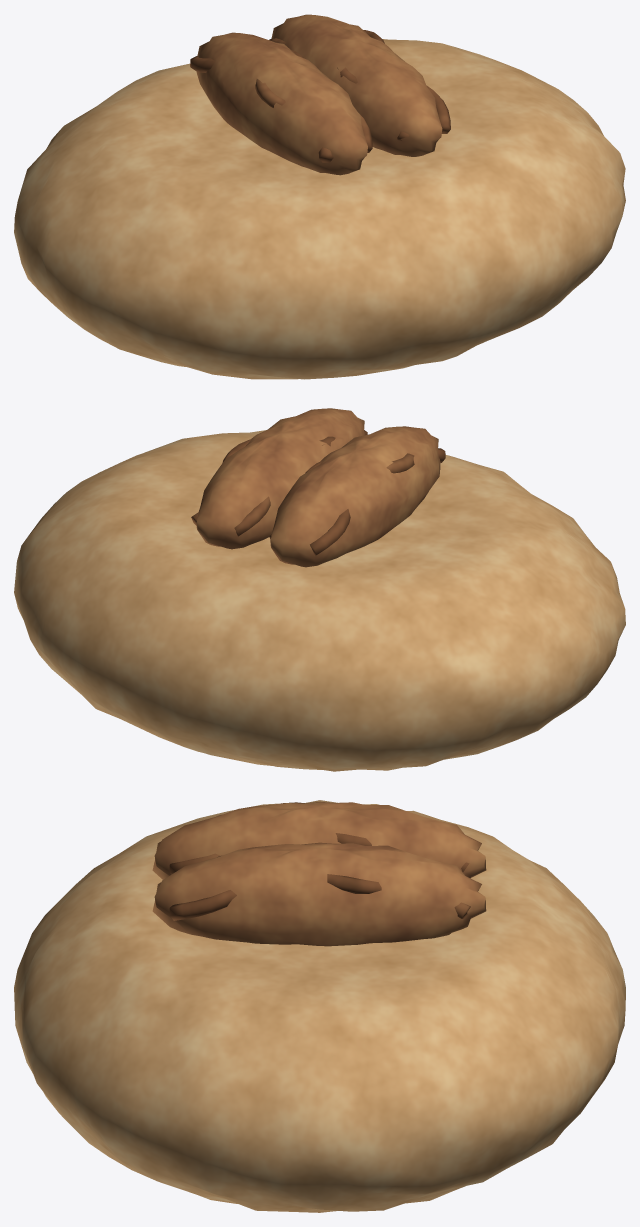
File: dulce_jamoncillo.gltf
3 renders of one model, top to bottom at view 1: azimuth 30°, elevation 25°; view 2: azimuth 150°, elevation 25°; view 3: azimuth 270°, elevation 25°, orthographic. The views are drawn at different scales.
Parts seen in each view (by area): view 1: dulce_leche, lobulo_nuez, lobulo_nuez.001, surco_nuez.002, surco_nuez.005; view 2: dulce_leche, lobulo_nuez, lobulo_nuez.001, surco_nuez.002, surco_nuez.003; view 3: dulce_leche, lobulo_nuez.001, lobulo_nuez, surco_nuez.005, surco_nuez.
Part boxes in pixels (x1,y1,x2,y2): dulce_leche: [14, 39, 625, 379]; lobulo_nuez: [196, 32, 367, 175]; lobulo_nuez.001: [271, 14, 442, 156]; surco_nuez.002: [190, 56, 333, 162]; surco_nuez.005: [363, 30, 450, 133]; dulce_leche: [14, 430, 625, 771]; lobulo_nuez: [270, 426, 440, 567]; lobulo_nuez.001: [196, 408, 364, 549]; surco_nuez.002: [310, 448, 445, 555]; surco_nuez.003: [234, 430, 367, 536]; dulce_leche: [14, 800, 625, 1212]; lobulo_nuez.001: [152, 842, 486, 946]; lobulo_nuez: [152, 801, 486, 879]; surco_nuez.005: [169, 874, 470, 920]; surco_nuez: [169, 833, 469, 874].
Bounding box in the file's own units: 0.0563 × 0.0266 × 0.0481.
3 materials, 3 textured.
